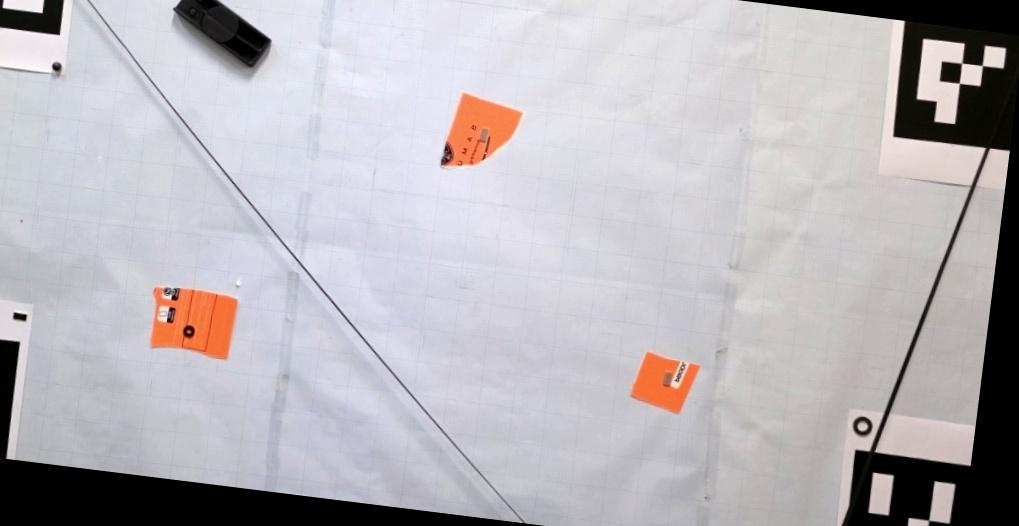obstacle: (438, 91, 526, 172), (173, 0, 271, 68), (151, 287, 238, 360), (630, 351, 700, 415)
